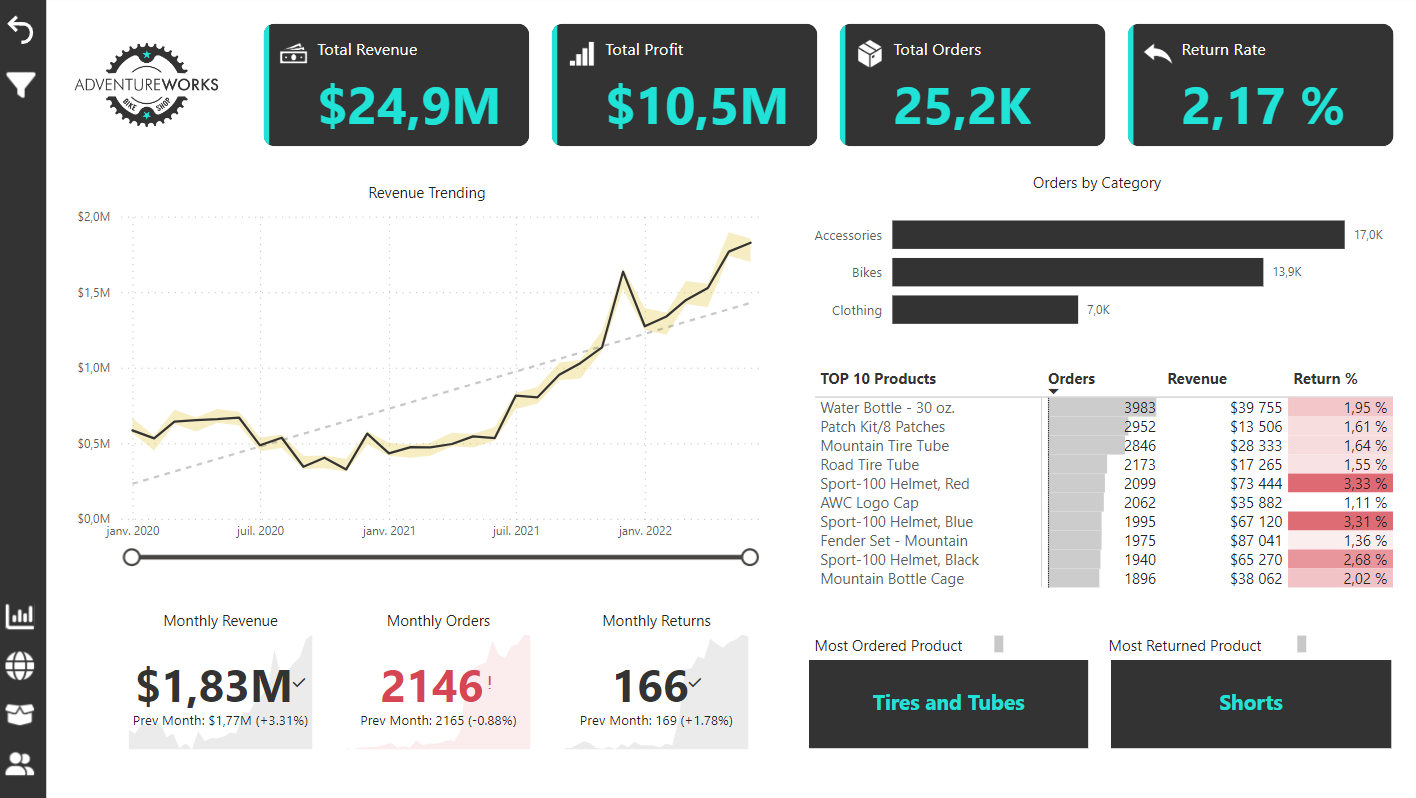

This screenshot's page, from the dashboard's own definition file:
{"tool":"powerbi","page":{"name":"Exec Dashboard ","canvas":[1280,720],"ordinal":0},"visuals":[{"type":"image","title":"AW Logo","box":[51,24.6,168,111],"z":0},{"type":"actionButton","box":[4.6,538.9,33.7,33.7],"z":0,"group":"g1"},{"type":"shape","title":"Left Nav Background","box":[0,0,45,720],"z":1000},{"type":"actionButton","box":[4.6,582.7,33.7,33.7],"z":1000,"group":"g1"},{"type":"actionButton","box":[4.6,626.4,33.7,33.7],"z":2000,"group":"g1"},{"type":"lineChart","title":"Revenue Trending","fields":{"Y":["Measure Table.Total Revenue"],"Category":["Calendar Lookup.Start of Month"]},"box":[67.2,166.6,637.6,346.6],"z":3000},{"type":"actionButton","box":[4.6,670.2,33.7,33.7],"z":3000,"group":"g1"},{"type":"kpi","title":"Monthly Revenue","fields":{"Indicator":["Measure Table.Total Revenue"],"TrendLine":["Calendar Lookup.Start of Month"],"Goal":["Measure Table.Previous Month Revenue"]},"box":[113.7,549.9,174.6,129.9],"z":4000},{"type":"kpi","title":"Monthly Orders","fields":{"TrendLine":["Calendar Lookup.Start of Month"],"Indicator":["Measure Table.Total Orders"],"Goal":["Measure Table.Previous Month Orders"]},"box":[309,549.9,174.6,129.9],"z":5000},{"type":"kpi","title":"Monthly Returns","fields":{"TrendLine":["Calendar Lookup.Start of Month"],"Indicator":["Measure Table.Total Returns"],"Goal":["Measure Table.Previous Month Return"]},"box":[504.2,549.9,174.6,129.9],"z":6000},{"type":"clusteredBarChart","title":"Orders by Category","fields":{"Category":["Product Categories Lookup.CategoryName"],"Y":["Measure Table.Total Orders"]},"box":[722.7,157.6,526.6,155.8],"z":7000},{"type":"pivotTable","fields":{"Rows":["Product Lookup.ProductName"],"Values":["Measure Table.Total Orders","Measure Table.Total Revenue","Measure Table.Return Rate"]},"box":[728.3,328.2,536.7,209.5],"z":8000},{"type":"card","fields":{"Values":["Min(Product Subcategories Lookup.SubcategoryName)"]},"box":[728.3,594.6,250,78.8],"z":9000},{"type":"textbox","box":[728.3,567.7,178.6,26.9],"z":10000},{"type":"card","fields":{"Values":["Min(Product Subcategories Lookup.SubcategoryName)"]},"box":[998.5,594.6,250.7,78.8],"z":11000},{"type":"textbox","box":[991.7,567.7,186.6,26.9],"z":12000},{"type":"actionButton","box":[4.5,12.5,34.9,34.9],"z":13000},{"type":"group","id":"g1","title":"Navigation Buttens","box":[4.6,538.9,33.7,164.9],"z":14000},{"type":"actionButton","box":[5.4,62.7,34,34],"z":15000},{"type":"cardVisual","fields":{"Data":["Measure Table.Total Revenue","Measure Table.Total Profit","Measure Table.Total Orders","Measure Table.Return Rate"]},"box":[234.6,19.7,1023.6,120],"z":16001}]}

Visuals, with their boxes on the page's 1280x720 design canvas (x1, y1, x2, y2). These are canvas units, not pixel positions in the 1416x798 screenshot, which may show the page scaled, cropped or inside an application window:
"AW Logo" image: region(51, 25, 219, 136)
actionButton: region(5, 539, 38, 573)
"Left Nav Background" shape: region(0, 0, 45, 720)
actionButton: region(5, 583, 38, 616)
actionButton: region(5, 626, 38, 660)
"Revenue Trending" lineChart: region(67, 167, 705, 513)
actionButton: region(5, 670, 38, 704)
"Monthly Revenue" kpi: region(114, 550, 288, 680)
"Monthly Orders" kpi: region(309, 550, 484, 680)
"Monthly Returns" kpi: region(504, 550, 679, 680)
"Orders by Category" clusteredBarChart: region(723, 158, 1249, 313)
pivotTable - Product Lookup.ProductName x Measure Table.Total Orders: region(728, 328, 1265, 538)
card - Min(Product Subcategories Lookup.SubcategoryName): region(728, 595, 978, 673)
textbox: region(728, 568, 907, 595)
card - Min(Product Subcategories Lookup.SubcategoryName): region(998, 595, 1249, 673)
textbox: region(992, 568, 1178, 595)
actionButton: region(4, 12, 39, 47)
"Navigation Buttens" group: region(5, 539, 38, 704)
actionButton: region(5, 63, 39, 97)
cardVisual - Measure Table.Total Revenue x Measure Table.Total Profit: region(235, 20, 1258, 140)
